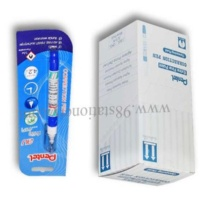book: (95, 17, 197, 188), (13, 27, 75, 178)
correction_fluid: (41, 47, 61, 154)
